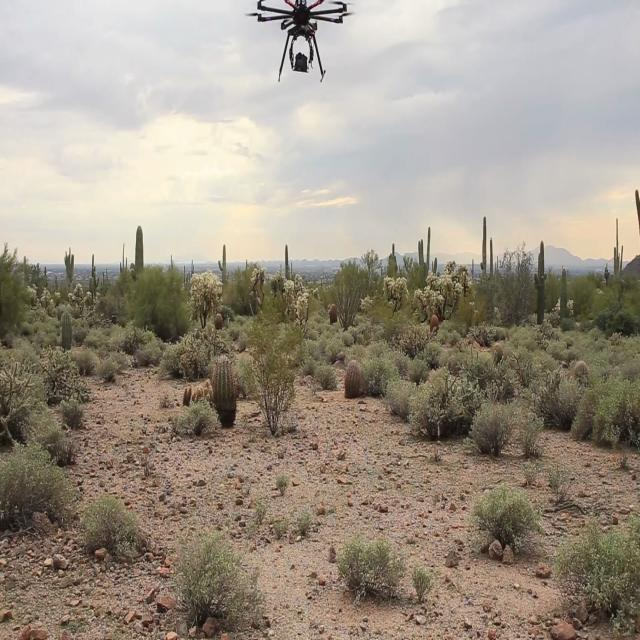drone: (228, 0, 362, 94)
